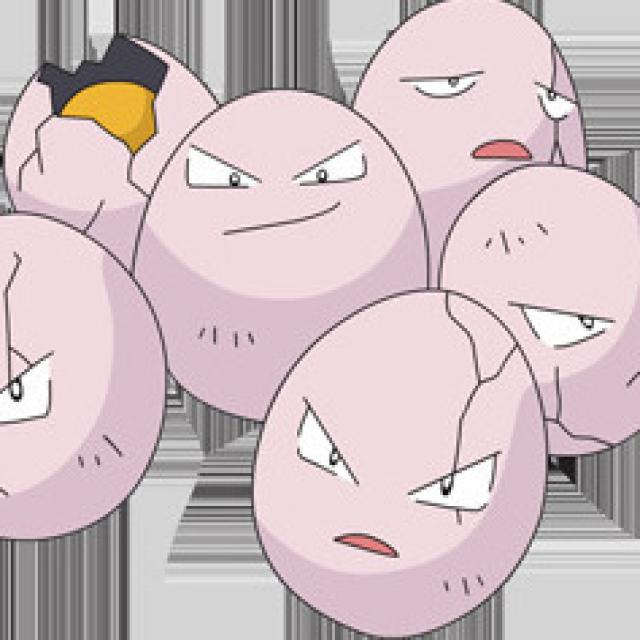Exeggcute: (0, 0, 640, 619)
